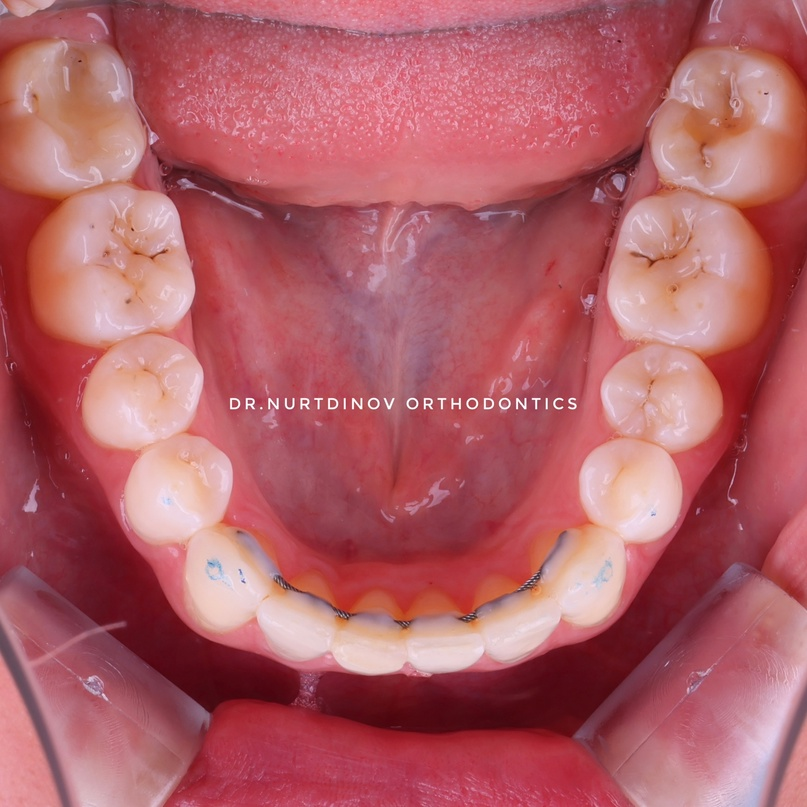LL1BC_healthy: (582, 446, 682, 537)
LL1M_decay: (606, 197, 764, 345)
LL2BC_decay: (599, 349, 725, 445)
LL2M_decay: (659, 50, 805, 194)
LLCI_decay: (402, 585, 478, 672)
LLC_decay: (541, 522, 630, 626)
LLLI_decay: (473, 577, 561, 660)
LR1BC_decay: (128, 438, 228, 536)
LR1M_decay: (38, 184, 198, 331)
LR2BC_decay: (86, 332, 205, 445)
LR2M_decay: (10, 42, 140, 181)
LRCI_decay: (336, 591, 403, 675)
LRC_decay: (174, 522, 273, 621)
LRLI_decay: (264, 569, 334, 666)
